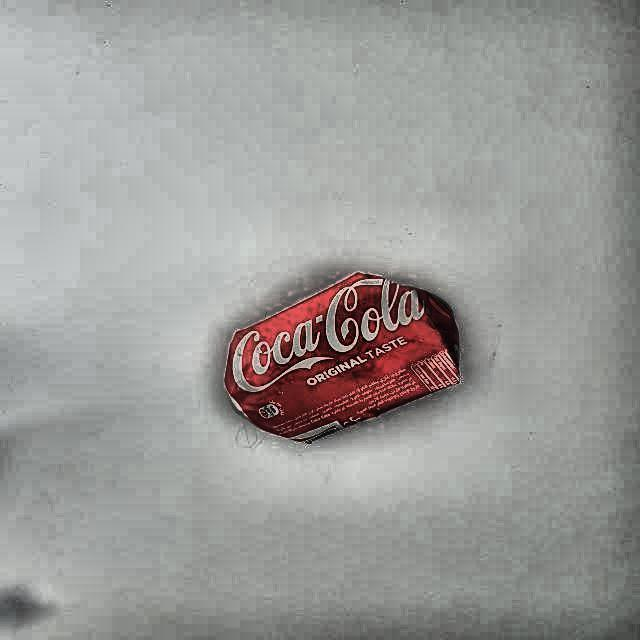metal: (223, 274, 460, 447)
